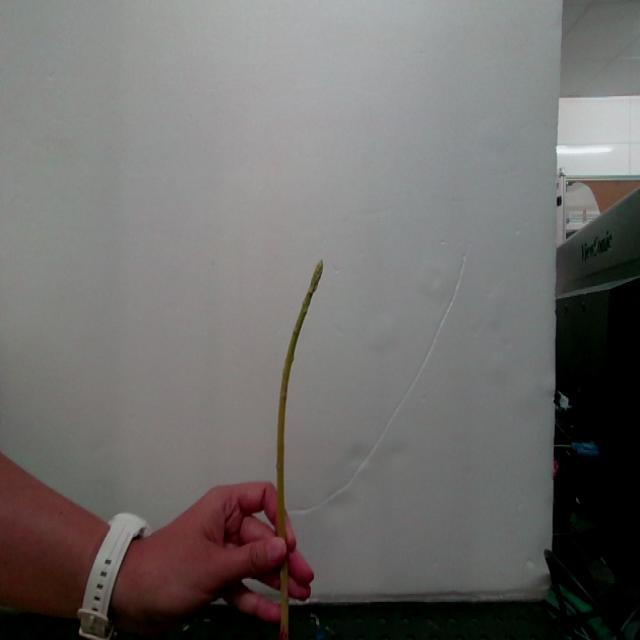aspargus: (275, 264, 326, 539)
